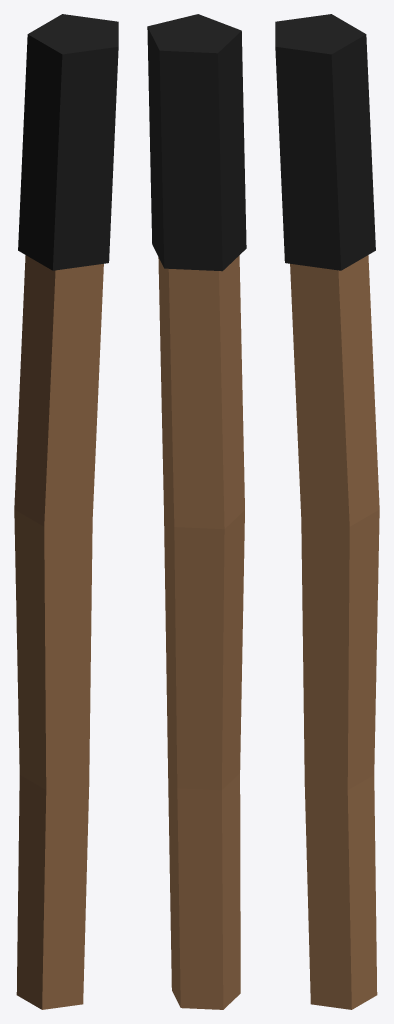
File: Torch_1.fbx
3 renders of one model, left to right at view 1: azimuth 90°, elevation 25°; view 2: azimuth 210°, elevation 25°; view 3: azimuth 270°, elevation 25°, orthographic.
Parts seen in each view (by area): view 1: Torch_mesh; view 2: Torch_mesh; view 3: Torch_mesh.
Part boxes in pixels (x1,y1,x2,y2): Torch_mesh: (14, 14, 118, 1009); Torch_mesh: (147, 14, 246, 1009); Torch_mesh: (275, 14, 379, 1009).
Size of the model in its own units: 7.54 by 83.47 by 8.22.
